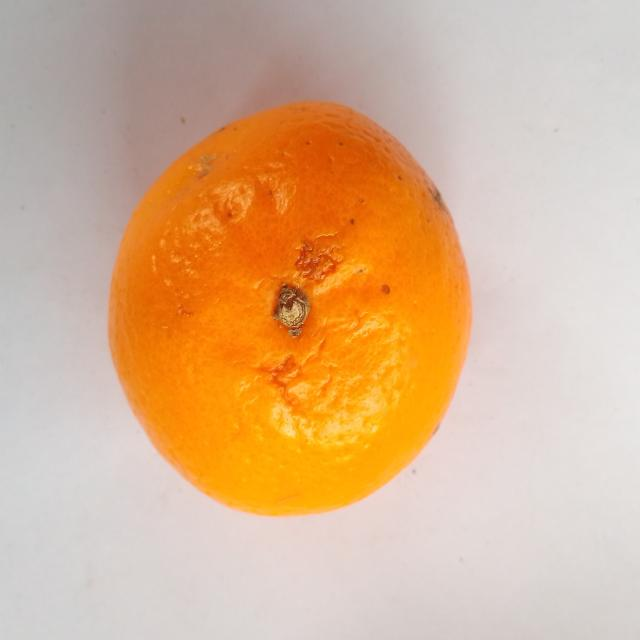orange: (110, 103, 471, 514)
